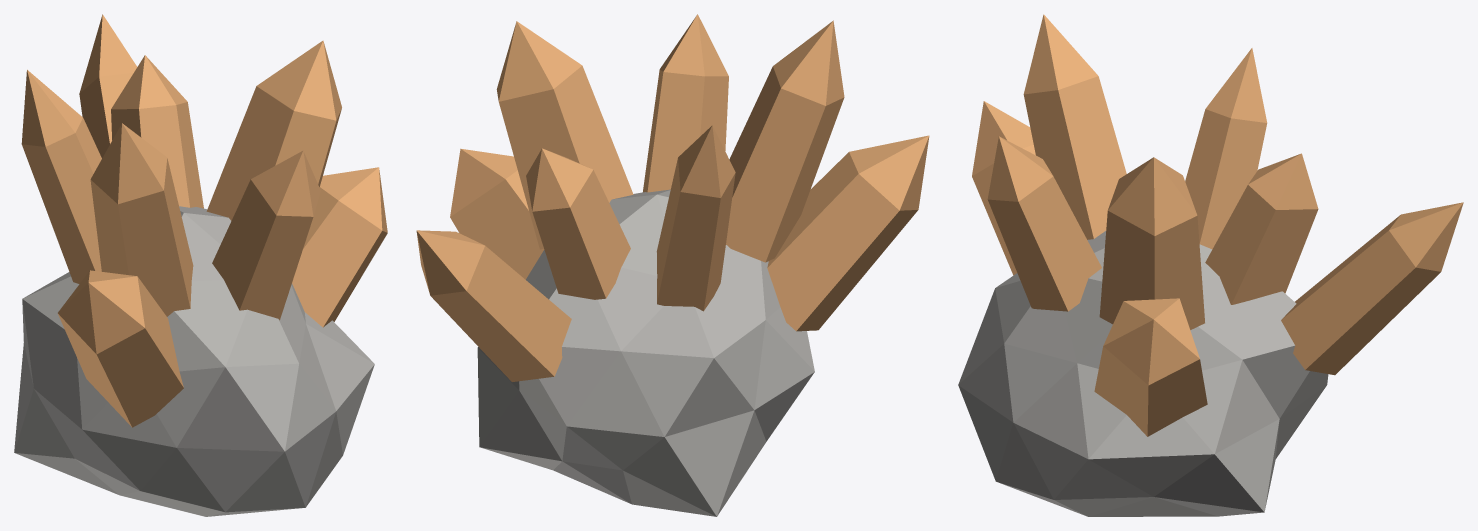
File: Ore_Node_B.fbx
The picture shows the model from 3 angles, left to right: view 1: azimuth 30°, elevation 25°; view 2: azimuth 150°, elevation 25°; view 3: azimuth 270°, elevation 25°; orthographic projection. The views are drawn at different scales.
Visible parts, largest first — view 1: Ore_Node_B; view 2: Ore_Node_B; view 3: Ore_Node_B.
Part boxes in pixels (bbox=[...]): Ore_Node_B: bbox=[14, 14, 387, 516]; Ore_Node_B: bbox=[416, 14, 929, 516]; Ore_Node_B: bbox=[958, 14, 1463, 516].
Size of the model in its own units: 2.77 by 2.94 by 3.25.
